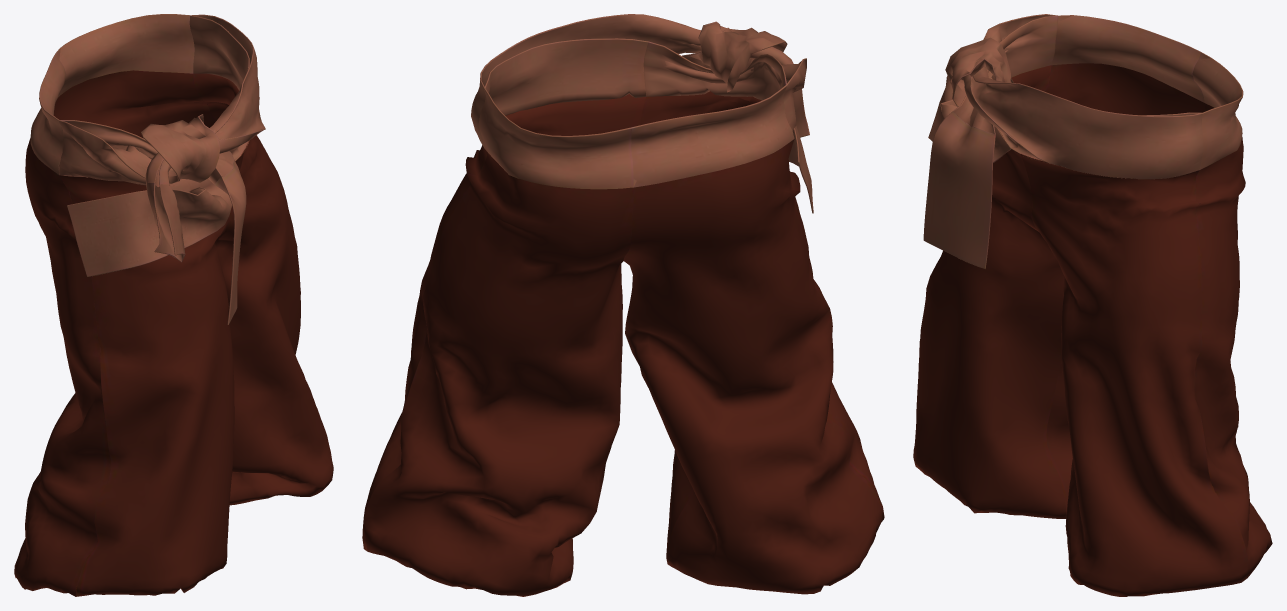
File: COSSACK_BLOOMERS_1#40.glb
The picture shows the model from 3 angles, left to right: view 1: azimuth 30°, elevation 25°; view 2: azimuth 150°, elevation 25°; view 3: azimuth 270°, elevation 25°; orthographic projection. The views are drawn at different scales.
Parts seen in each view (by area): view 1: niz_level_1_kaz_new; view 2: niz_level_1_kaz_new; view 3: niz_level_1_kaz_new.
Part boxes in pixels (<box>): niz_level_1_kaz_new: <box>14,14,333,596</box>; niz_level_1_kaz_new: <box>362,14,884,596</box>; niz_level_1_kaz_new: <box>913,14,1272,596</box>.
Bounding box in the file's own units: 3.75 × 4.77 × 3.31.
1 material, 1 textured.
